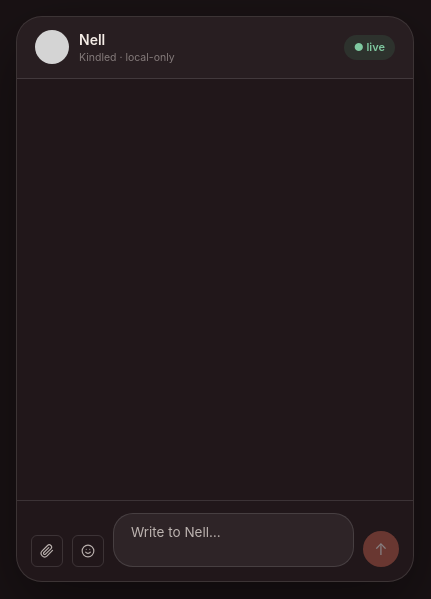
Test case: ChatPanel — a failed turn gives the message back (#301) › puts the text back when no session can be created
The image size is (431, 599).
In the text box with placeholder "Write to Nell…": coordinates (234, 540) [131,524,336,556], type "hello there"
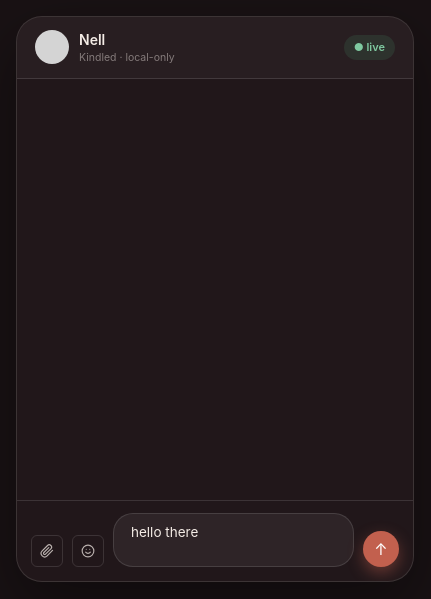
Click the button named "send": coordinates (381, 549) [363,531,399,567]
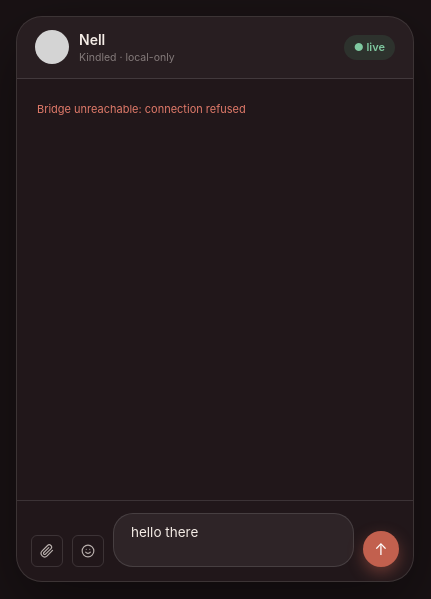
Expected: the text "Bridge unreachable: connection refused" is shown, [37,102,246,116]
